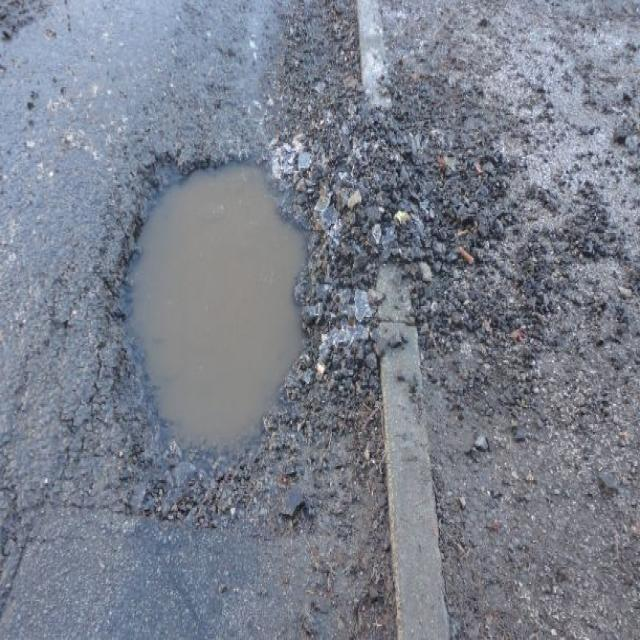pothole: (111, 137, 324, 496)
